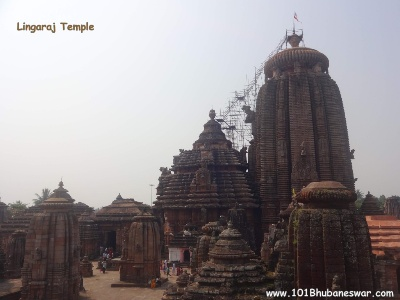amalaka: (247, 48, 342, 77), (34, 191, 82, 216)
gopuram: (240, 72, 372, 187)
